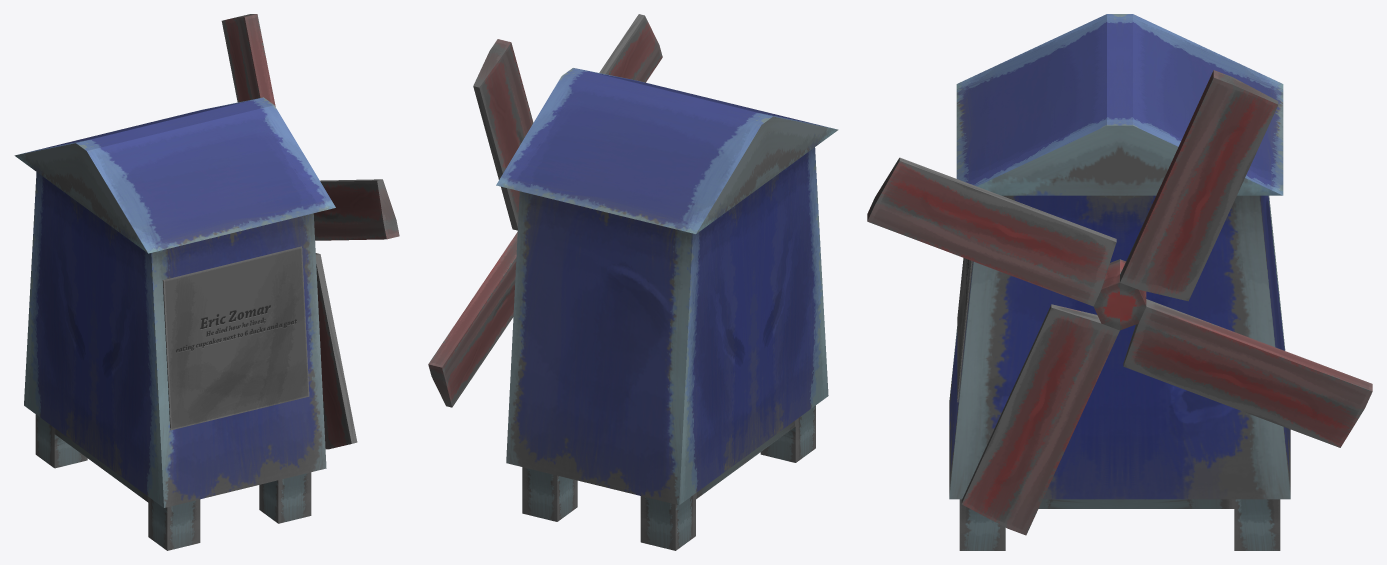
File: EricsGrave.fbx
3 views of the same model, side by side, from view 1: azimuth 30°, elevation 25°; view 2: azimuth 150°, elevation 25°; view 3: azimuth 270°, elevation 25° (orthographic). The views are drawn at different scales.
Visible parts, largest first — view 1: EricsGraveBase_Geo, EricGraveName_Geo, EricsGraveMill_GEo; view 2: EricsGraveBase_Geo, EricsGraveMill_GEo; view 3: EricsGraveBase_Geo, EricsGraveMill_GEo, EricGraveName_Geo.
Boxes of the visible parts, bbox=[...] form: EricsGraveBase_Geo: bbox=[14, 97, 335, 550]; EricGraveName_Geo: bbox=[162, 246, 309, 430]; EricsGraveMill_GEo: bbox=[221, 14, 399, 449]; EricsGraveBase_Geo: bbox=[496, 68, 838, 550]; EricsGraveMill_GEo: bbox=[428, 14, 662, 407]; EricsGraveBase_Geo: bbox=[949, 14, 1290, 550]; EricsGraveMill_GEo: bbox=[867, 70, 1372, 535]; EricGraveName_Geo: bbox=[957, 258, 972, 402].
Bounding box in the file's own units: 84.33 × 155 × 141.
